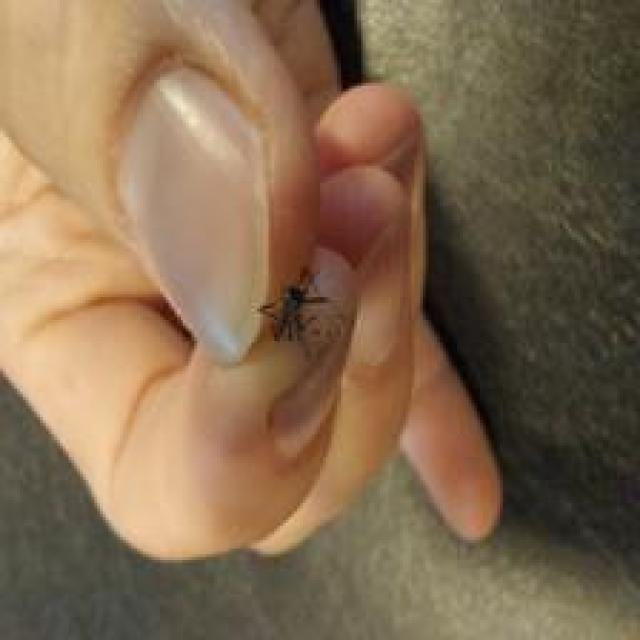Aedes albopictus: (254, 264, 332, 344)
